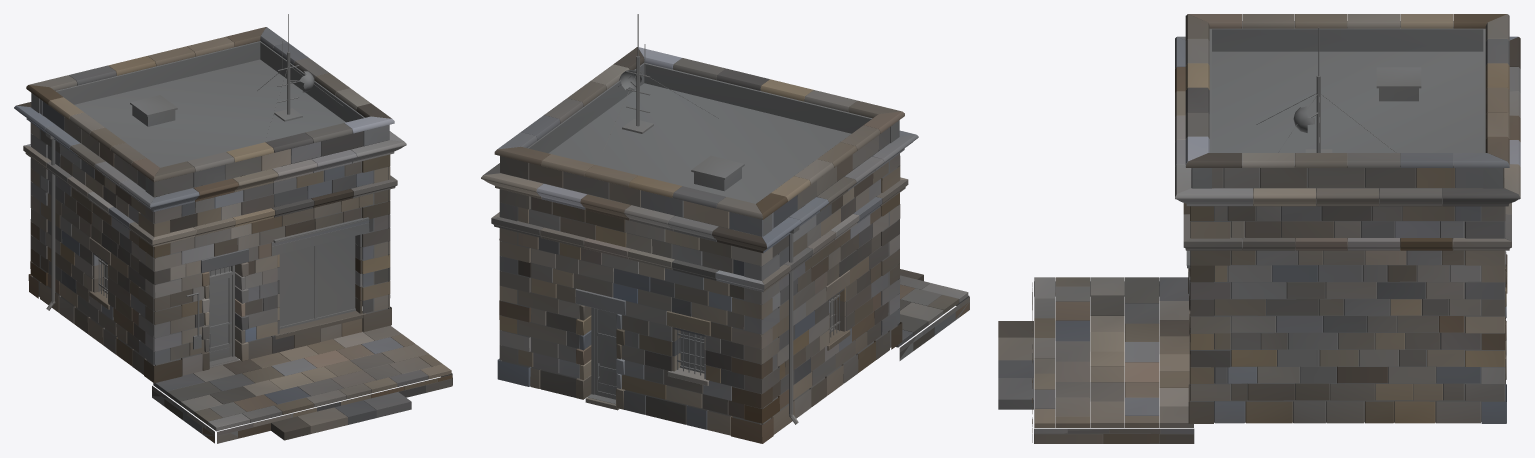
Rendered from ToolExchange_LOD1.glb.
3 renders of one model, left to right at view 1: azimuth 30°, elevation 25°; view 2: azimuth 150°, elevation 25°; view 3: azimuth 270°, elevation 25°, orthographic. The views are drawn at different scales.
Parts seen in each view (by area): view 1: ToolExchange_Masonry_LOD1, ToolExchange_Trim_LOD1, ToolExchange_Porch_LOD1, ToolExchange_Roof_LOD1, ToolExchange_Display_LOD1, ToolExchange_Metal_LOD1, ToolExchange_Glass_LOD1; view 2: ToolExchange_Masonry_LOD1, ToolExchange_Trim_LOD1, ToolExchange_Roof_LOD1, ToolExchange_Metal_LOD1, ToolExchange_Porch_LOD1, ToolExchange_Glass_LOD1; view 3: ToolExchange_Masonry_LOD1, ToolExchange_Trim_LOD1, ToolExchange_Porch_LOD1, ToolExchange_Roof_LOD1, ToolExchange_Metal_LOD1.
Boxes of the visible parts, box(x1,y1,x2,y2) form: ToolExchange_Masonry_LOD1: box(28, 41, 391, 383); ToolExchange_Trim_LOD1: box(14, 27, 406, 370); ToolExchange_Porch_LOD1: box(152, 325, 452, 443); ToolExchange_Roof_LOD1: box(74, 59, 345, 167); ToolExchange_Display_LOD1: box(279, 236, 355, 326); ToolExchange_Metal_LOD1: box(45, 14, 369, 365); ToolExchange_Glass_LOD1: box(104, 208, 230, 347); ToolExchange_Masonry_LOD1: box(497, 62, 902, 443); ToolExchange_Trim_LOD1: box(481, 47, 918, 409); ToolExchange_Roof_LOD1: box(548, 83, 851, 203); ToolExchange_Metal_LOD1: box(587, 14, 840, 424); ToolExchange_Porch_LOD1: box(585, 269, 969, 410); ToolExchange_Glass_LOD1: box(680, 298, 833, 370); ToolExchange_Masonry_LOD1: box(1188, 21, 1507, 423); ToolExchange_Trim_LOD1: box(1175, 14, 1520, 390); ToolExchange_Porch_LOD1: box(998, 277, 1194, 443); ToolExchange_Roof_LOD1: box(1212, 51, 1483, 156); ToolExchange_Metal_LOD1: box(1187, 27, 1396, 275).
Size of the model in its own units: 8.46 by 9.52 by 11.73.
